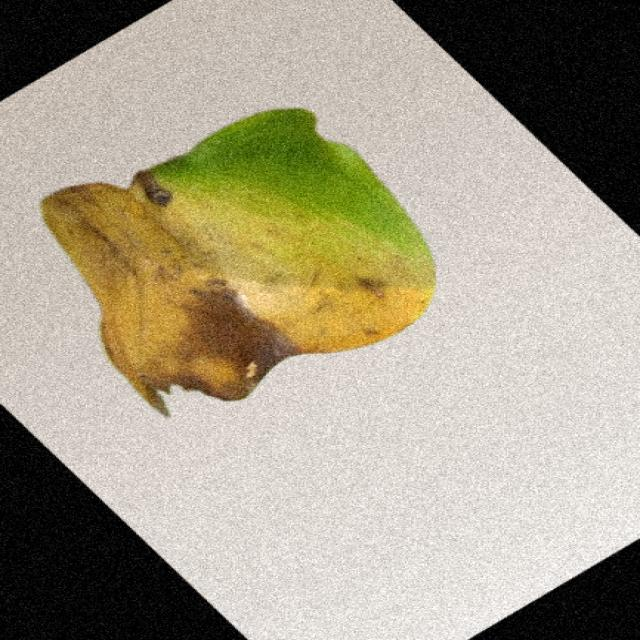daun berpenyakit kuning: (42, 109, 435, 414)
